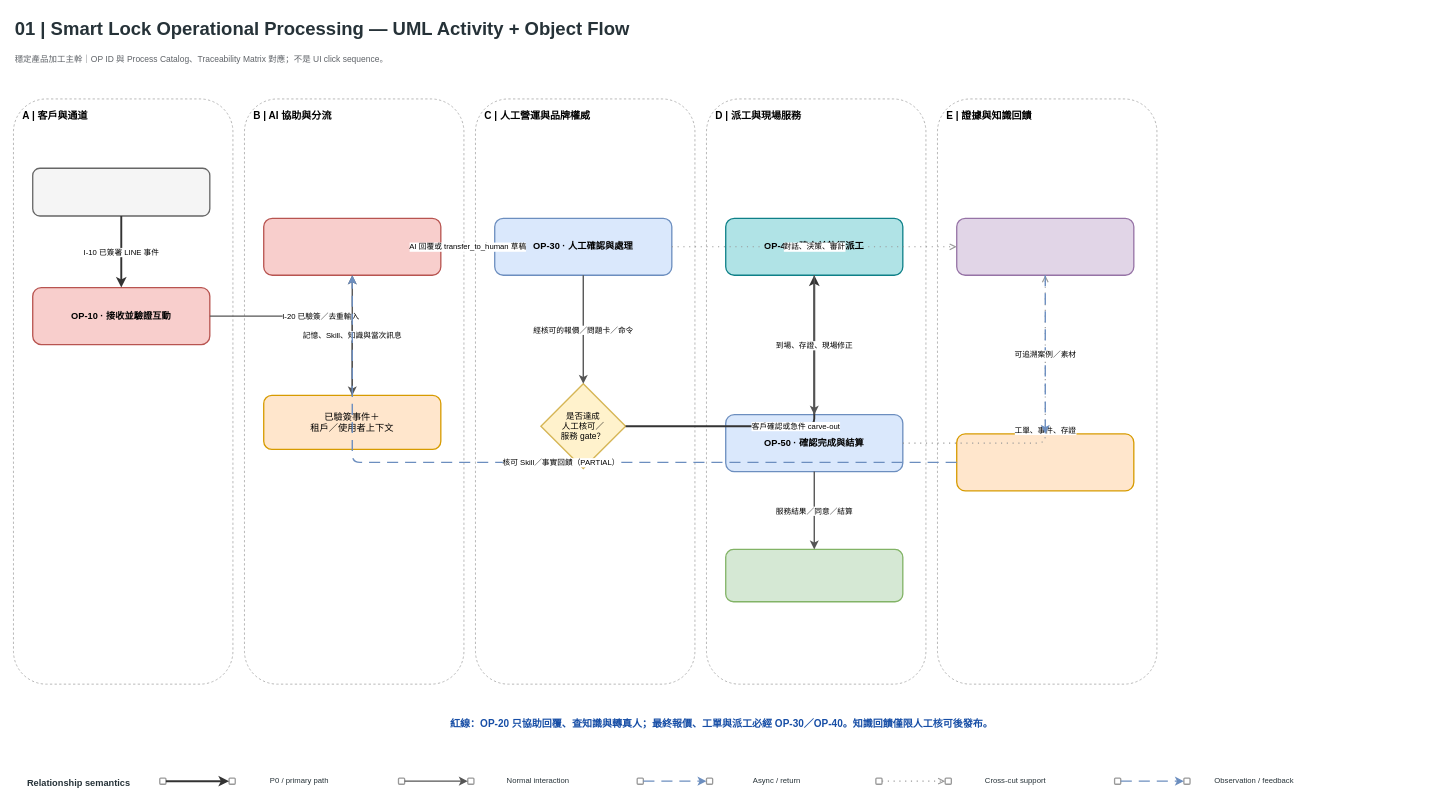
The diagram is 1444 pixels wide and 807 high, and some of its shapes have lost their labels. Each missing label, with the centre of its shape:
OP-20 · 協助診斷與分流: point 352,246
OP-60 · 保存營運證據: point 1045,246
OP-70 · 審核並回饋知識: point 1045,462
客戶訊息／照片／ LIFF postback: point 121,191
已交付回覆／ 已確認報價／完成服務: point 814,575
